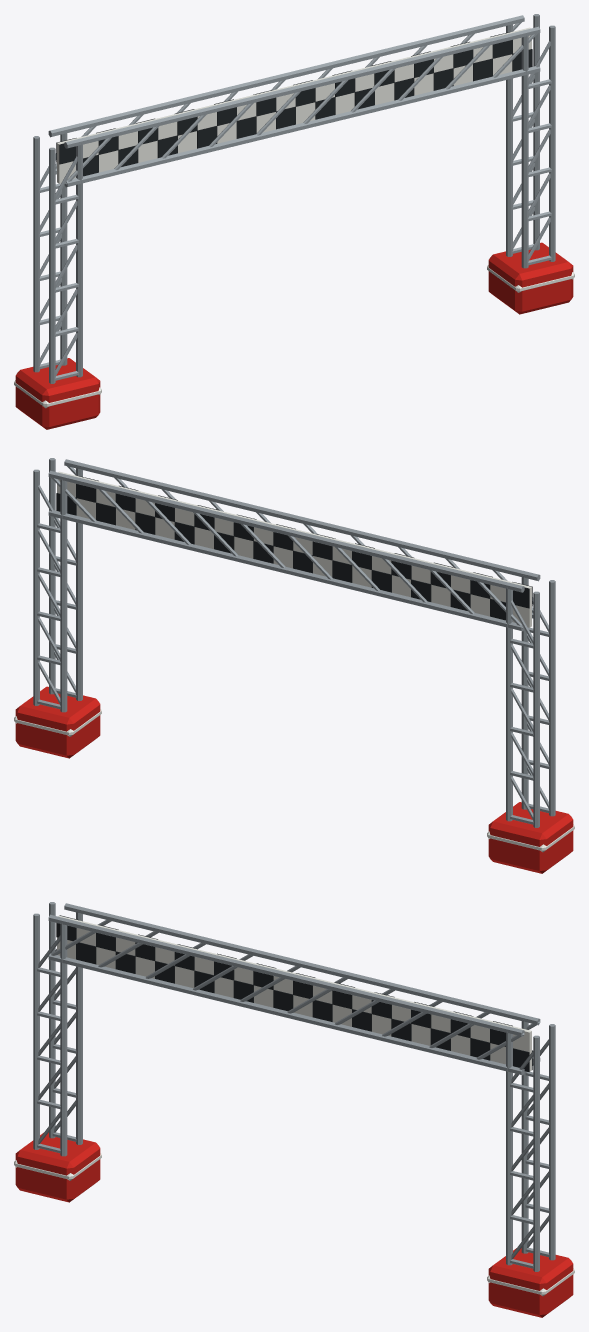
Rendered from start_gantry.glb.
3 views of the same model, one above another, from view 1: azimuth 30°, elevation 25°; view 2: azimuth 150°, elevation 25°; view 3: azimuth 330°, elevation 25° (orthographic).
Parts seen in each view (by area): view 1: Body.014; view 2: Body.014; view 3: Body.014.
Boxes of the visible parts, x1,y1,x2,y2 form: Body.014: (14, 14, 574, 429); Body.014: (14, 458, 574, 873); Body.014: (14, 902, 574, 1317).
Bounding box in the file's own units: 8.21 × 4.1 × 0.86.
